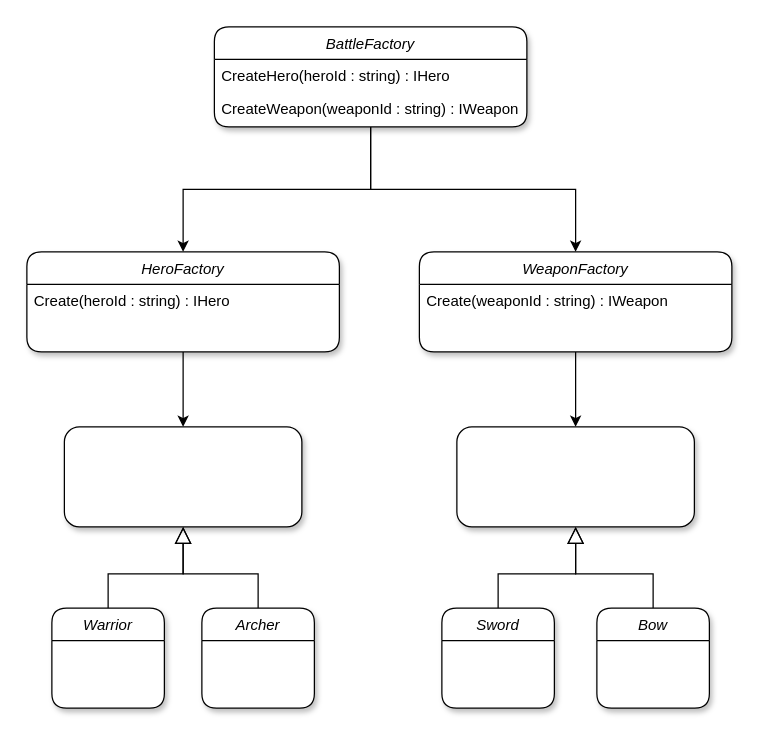
Some shapes in this 761 by 739 pixel diagram are drawn without their labels. The shapes that lost their labels are listed below. From the top down, each one's centre as x and y in pixels, then its label:
At (183,478): "<<Interface>> IHero".
At (576,478): "<<Interface>> IWeapon".
